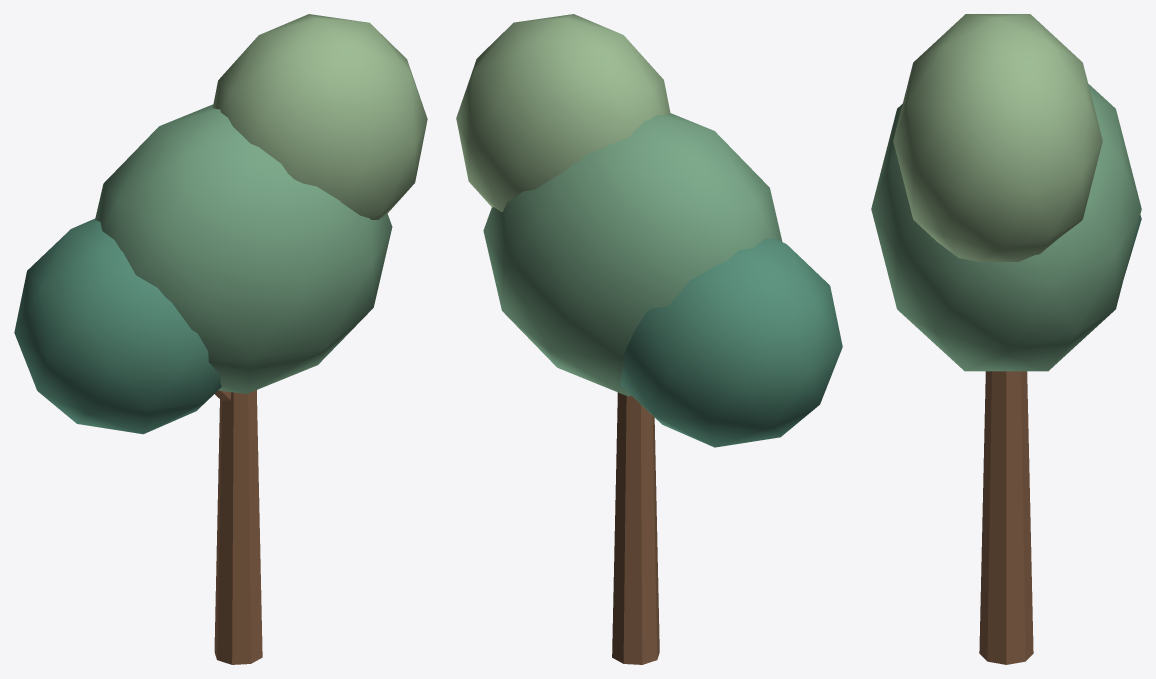
The model's file is tpe5_street_tree_4p4m.glb.
3 views of the same model, side by side, from view 1: azimuth 30°, elevation 25°; view 2: azimuth 150°, elevation 25°; view 3: azimuth 270°, elevation 25° (orthographic). The views are drawn at different scales.
Parts seen in each view (by area): view 1: tpe5_street_tree_4p4m__tpe5-leaf-sage, tpe5_street_tree_4p4m__tpe5-leaf-light, tpe5_street_tree_4p4m__tpe5-street-jade, tpe5_street_tree_4p4m__tpe5-street-walnut; view 2: tpe5_street_tree_4p4m__tpe5-leaf-sage, tpe5_street_tree_4p4m__tpe5-street-jade, tpe5_street_tree_4p4m__tpe5-leaf-light, tpe5_street_tree_4p4m__tpe5-street-walnut; view 3: tpe5_street_tree_4p4m__tpe5-leaf-light, tpe5_street_tree_4p4m__tpe5-leaf-sage, tpe5_street_tree_4p4m__tpe5-street-walnut.
Boxes of the visible parts, <box> form: tpe5_street_tree_4p4m__tpe5-leaf-sage: <box>95,104,392,393</box>; tpe5_street_tree_4p4m__tpe5-leaf-light: <box>212,14,427,219</box>; tpe5_street_tree_4p4m__tpe5-street-jade: <box>14,218,221,434</box>; tpe5_street_tree_4p4m__tpe5-street-walnut: <box>214,390,262,664</box>; tpe5_street_tree_4p4m__tpe5-leaf-sage: <box>483,113,782,396</box>; tpe5_street_tree_4p4m__tpe5-street-jade: <box>620,238,842,447</box>; tpe5_street_tree_4p4m__tpe5-leaf-light: <box>456,14,670,212</box>; tpe5_street_tree_4p4m__tpe5-street-walnut: <box>612,392,659,664</box>; tpe5_street_tree_4p4m__tpe5-leaf-light: <box>893,14,1102,261</box>; tpe5_street_tree_4p4m__tpe5-leaf-sage: <box>871,84,1141,371</box>; tpe5_street_tree_4p4m__tpe5-street-walnut: <box>979,371,1033,664</box>.
Bounding box in the file's own units: 2.74 × 4.4 × 1.6.
